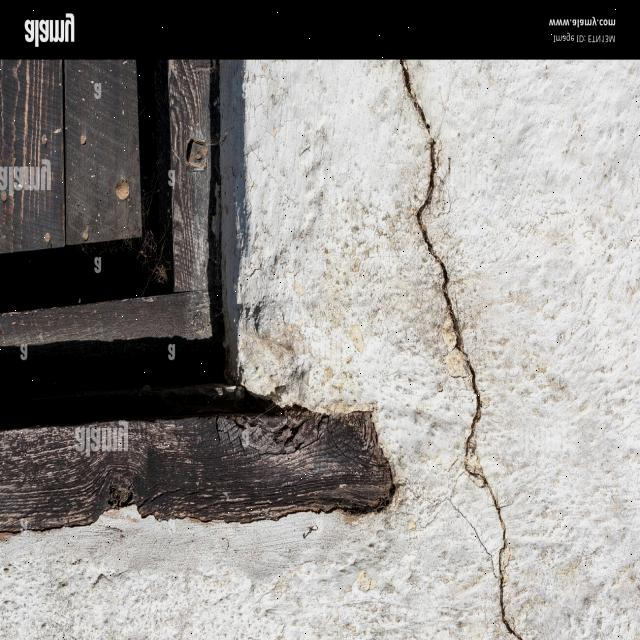corrosion: (0, 401, 396, 534)
crack: (397, 59, 524, 638)
